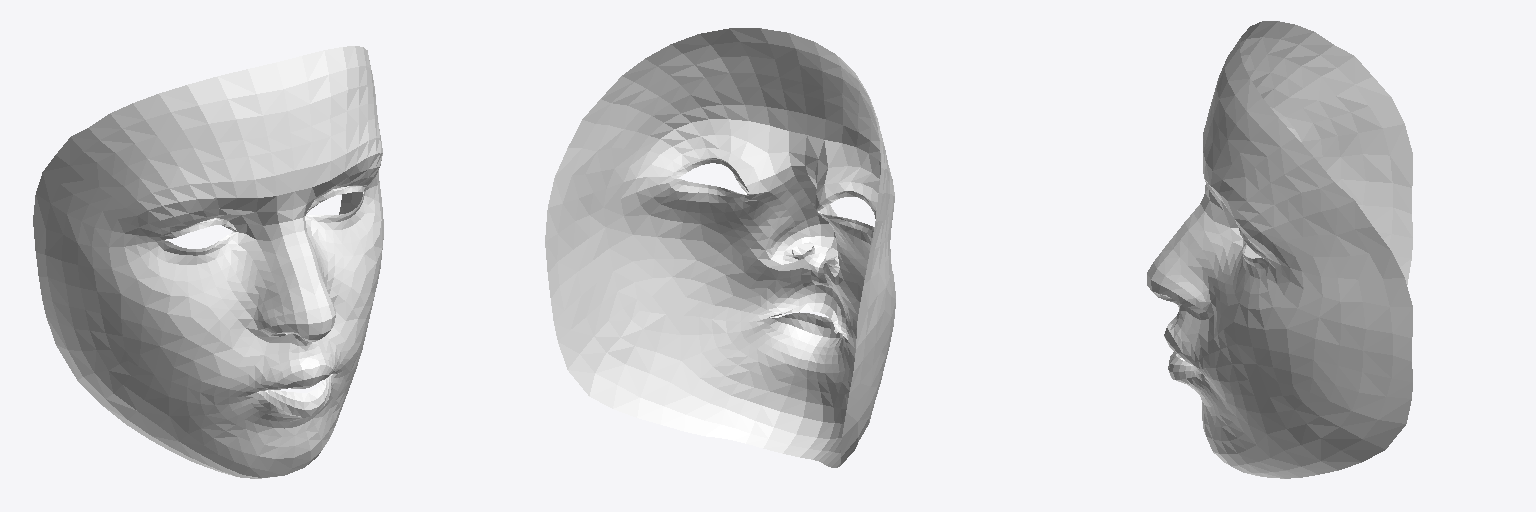
Rendered from mouthPucker.obj.
3 views of the same model, side by side, from view 1: azimuth 30°, elevation 25°; view 2: azimuth 150°, elevation 25°; view 3: azimuth 270°, elevation 25° (orthographic).
Parts seen in each view (by area): view 1: default; view 2: default; view 3: default.
Part boxes in pixels (x1,y1,x2,y2): default: (33, 46, 383, 478); default: (545, 28, 895, 467); default: (1147, 21, 1412, 478).
Size of the model in its own units: 0.1447 by 0.1825 by 0.1058.